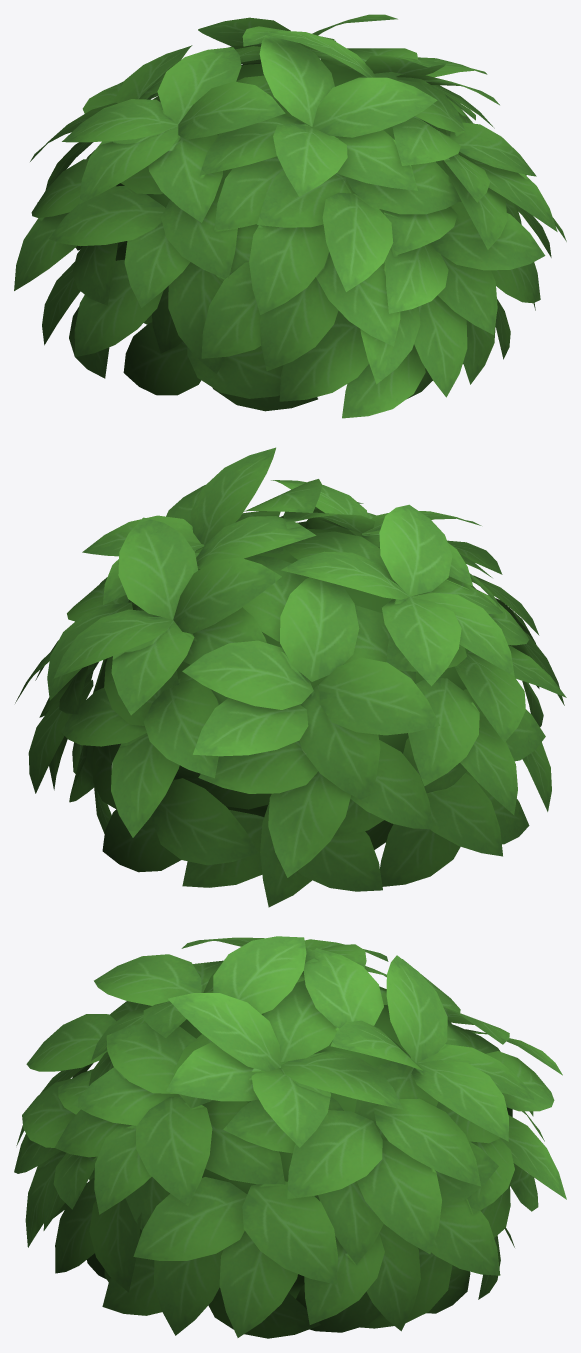
File: MemoRoute_Bush.fbx
3 renders of one model, top to bottom at view 1: azimuth 30°, elevation 25°; view 2: azimuth 150°, elevation 25°; view 3: azimuth 270°, elevation 25°, orthographic. The views are drawn at different scales.
Visible parts, largest first — view 1: MemoRoute_Bush; view 2: MemoRoute_Bush; view 3: MemoRoute_Bush.
Boxes of the visible parts, bbox=[...] form: MemoRoute_Bush: bbox=[14, 14, 566, 418]; MemoRoute_Bush: bbox=[15, 447, 566, 907]; MemoRoute_Bush: bbox=[14, 936, 566, 1338].
Bounding box in the file's own units: 8.47 × 5.4 × 8.25.
